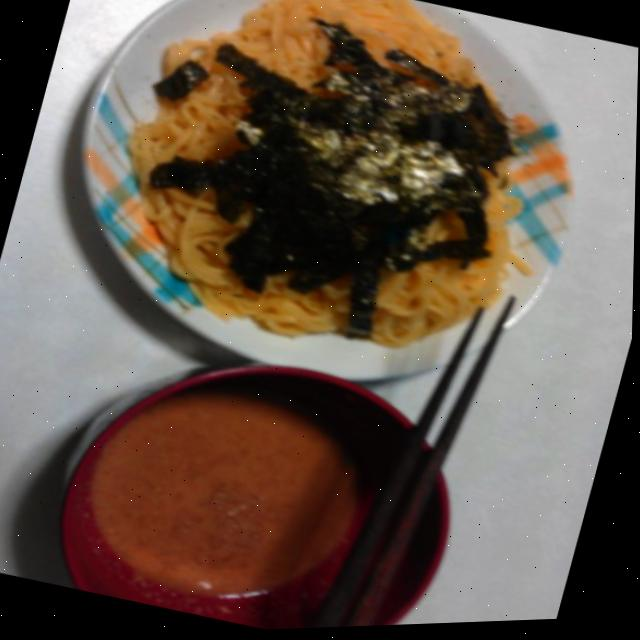面条主食: (31, 0, 627, 441), (43, 302, 499, 638)
